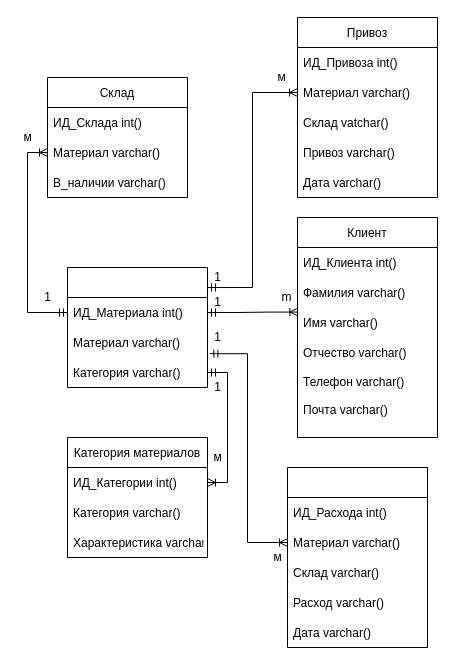
Image size: 455x665. Some labels were removed from this diagram. Each missing label, with the box of its shape:
Материалы: (66, 266, 208, 388)
Расходы: (286, 466, 428, 648)
